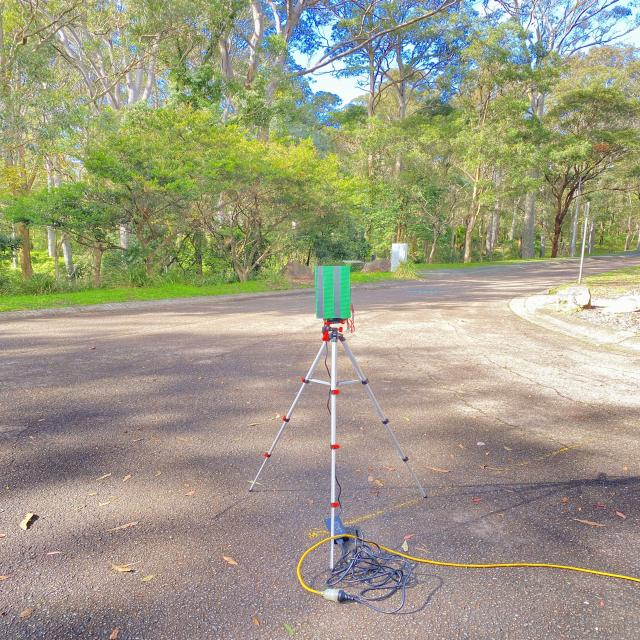matrix: (305, 262, 361, 324)
